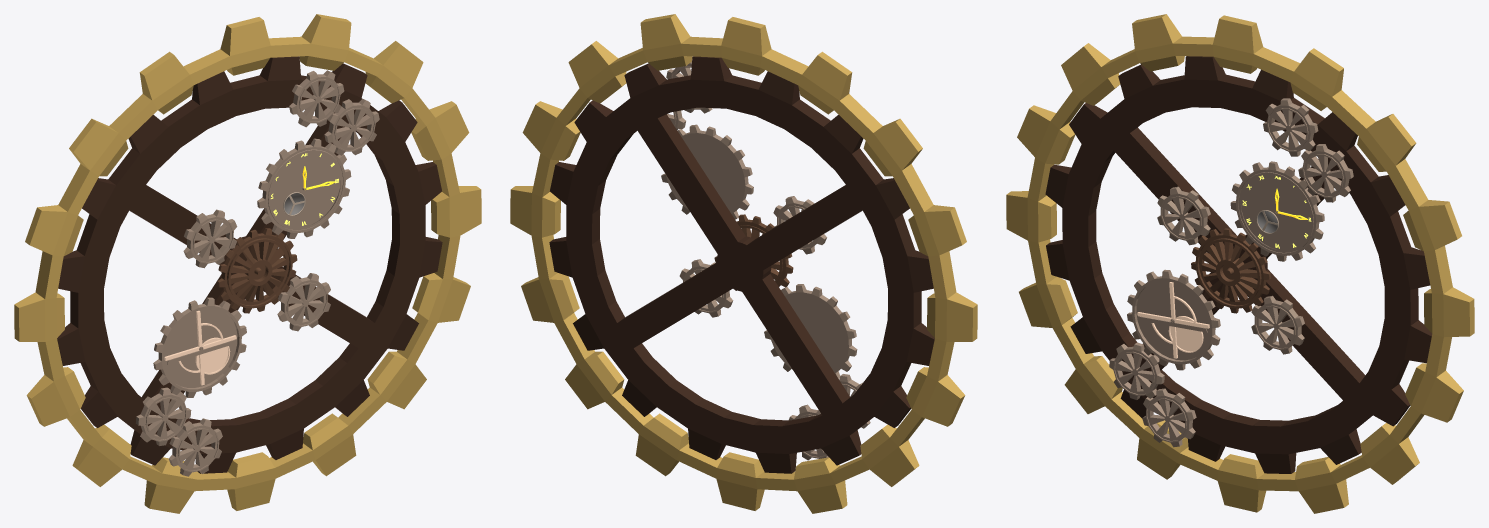
The model's file is steamPunkClock.fbx.
3 renders of one model, left to right at view 1: azimuth 30°, elevation 25°; view 2: azimuth 150°, elevation 25°; view 3: azimuth 330°, elevation 25°, orthographic.
Parts seen in each view (by area): view 1: GearBack02, GearBack01, ClockMain01, MainGear, MainClockBackground, SubGear03, SubGear02, SubGear05, SubGear06, SubGear04, SubGear01, MainClock (+1 smaller); view 2: GearBack01, GearBack02, MainClock, ClockMain01, MainGear, SubGear03, SubGear04; view 3: GearBack01, GearBack02, ClockMain01, MainGear, MainClockBackground, SubGear02, SubGear03, SubGear04, SubGear01, SubGear06, SubGear05, MainClock (+1 smaller).
Part boxes in pixels (x1=…): GearBack02: x1=14, y1=14, x2=481, y2=513; GearBack01: x1=57, y1=56, x2=442, y2=473; ClockMain01: x1=153, y1=297, x2=246, y2=397; MainGear: x1=217, y1=228, x2=297, y2=313; MainClockBackground: x1=268, y1=149, x2=343, y2=230; SubGear03: x1=183, y1=209, x2=237, y2=268; SubGear02: x1=289, y1=70, x2=344, y2=127; SubGear05: x1=135, y1=387, x2=191, y2=445; SubGear06: x1=168, y1=418, x2=222, y2=476; SubGear04: x1=277, y1=273, x2=330, y2=331; SubGear01: x1=324, y1=98, x2=379, y2=155; MainClock: x1=257, y1=138, x2=351, y2=238; GearBack01: x1=549, y1=56, x2=934, y2=473; GearBack02: x1=510, y1=14, x2=977, y2=513; MainClock: x1=661, y1=124, x2=753, y2=219; ClockMain01: x1=764, y1=284, x2=857, y2=378; MainGear: x1=714, y1=214, x2=793, y2=290; SubGear03: x1=773, y1=196, x2=826, y2=254; SubGear04: x1=679, y1=259, x2=733, y2=317; GearBack01: x1=1045, y1=56, x2=1432, y2=473; GearBack02: x1=1006, y1=14, x2=1474, y2=513; ClockMain01: x1=1127, y1=269, x2=1220, y2=370; MainGear: x1=1191, y1=228, x2=1270, y2=313; MainClockBackground: x1=1238, y1=172, x2=1313, y2=252; SubGear02: x1=1263, y1=98, x2=1318, y2=156; SubGear03: x1=1157, y1=186, x2=1210, y2=245; SubGear04: x1=1251, y1=295, x2=1304, y2=354; SubGear01: x1=1298, y1=144, x2=1353, y2=202; SubGear06: x1=1142, y1=388, x2=1196, y2=447; SubGear05: x1=1109, y1=342, x2=1164, y2=399; MainClock: x1=1230, y1=161, x2=1324, y2=261.
Bounding box in the file's own units: 8.31 × 8.31 × 0.551.
